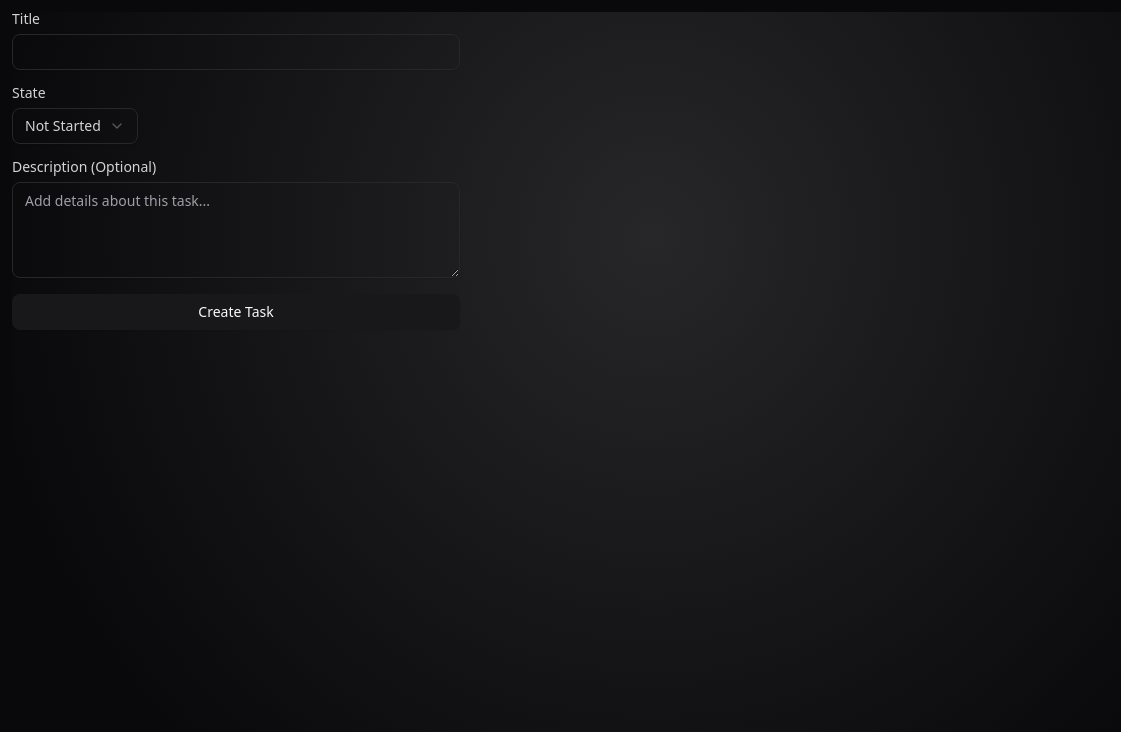
Scenario: TaskForm › validates required fields
The image size is (1121, 732).
Step 1. Click the button "Create Task" → (236,312), box [12, 294, 460, 330]
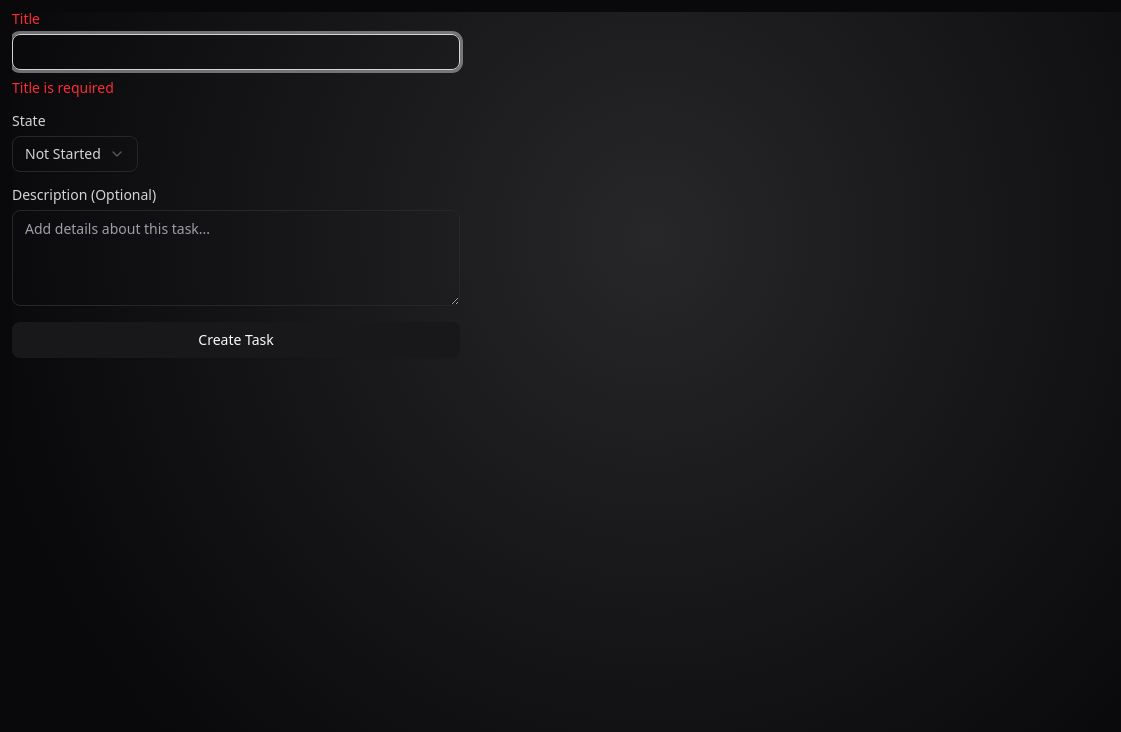
Check: the text "Title is required" is shown, box [12, 78, 114, 97]
